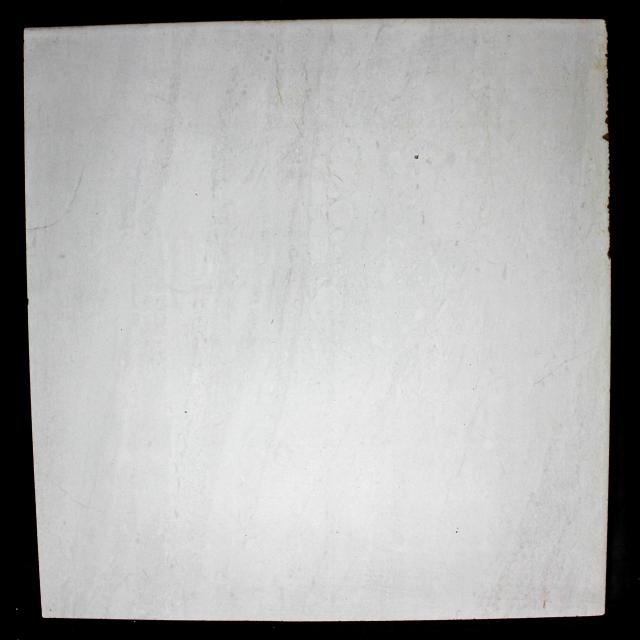edge-chipping: (604, 109, 609, 125), (606, 246, 612, 258), (602, 132, 609, 142)
hole: (414, 153, 419, 160), (194, 192, 198, 196), (184, 410, 187, 414)
line: (69, 171, 83, 206), (26, 222, 58, 232)
